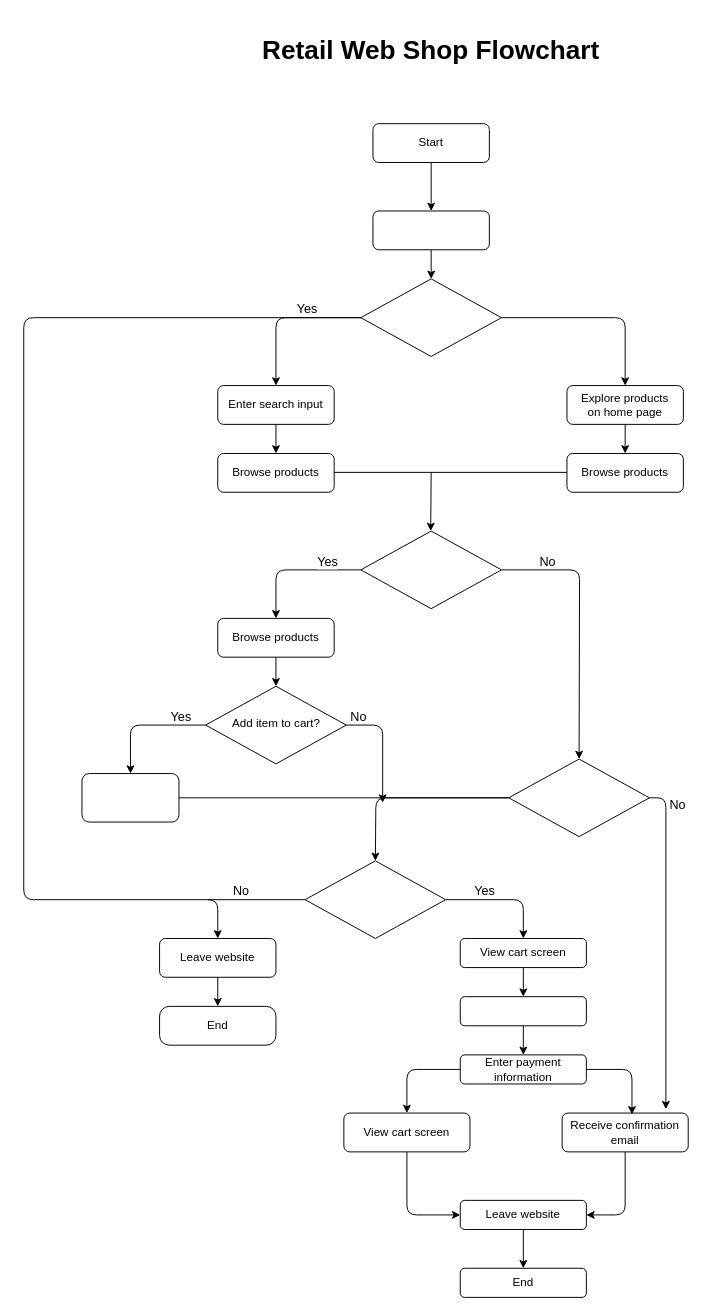
Some shapes in this 705 by 1314 pixel diagram are drawn without their labels. The shapes that lost their labels are listed below. From the top down, each one's centre as x and y in pixels, then its label:
(430,230): Enter website
(430,317): Search for product?
(430,569): View specific product?
(130,797): Added to cart confirmation
(578,797): continue shopping?
(375,899): Checkout?
(522,1011): View payment screen
